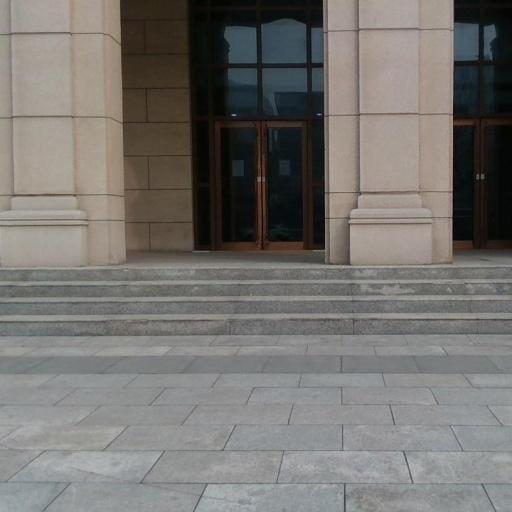stairs: (0, 265, 511, 334)
